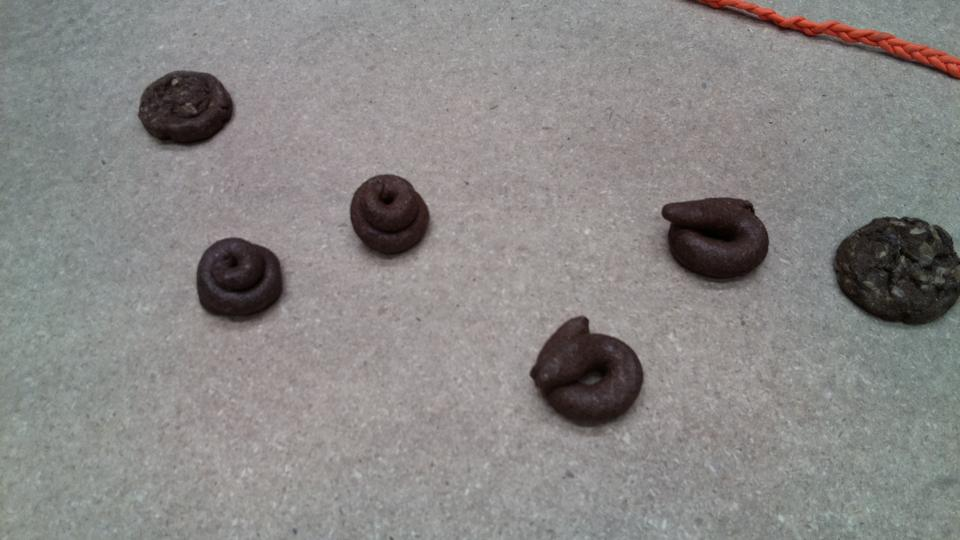poop: (828, 211, 959, 329), (527, 313, 646, 429), (660, 193, 772, 287), (191, 235, 289, 326), (134, 66, 237, 151), (346, 170, 434, 260)
rope: (690, 1, 960, 85)
